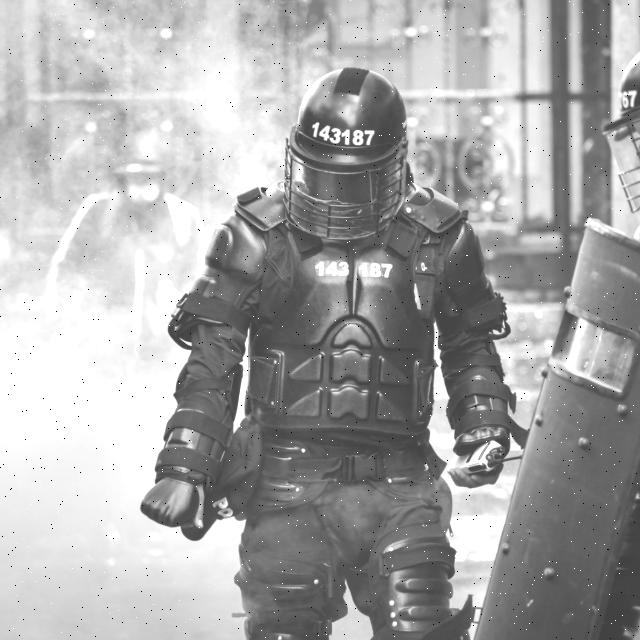police: (138, 38, 510, 640)
